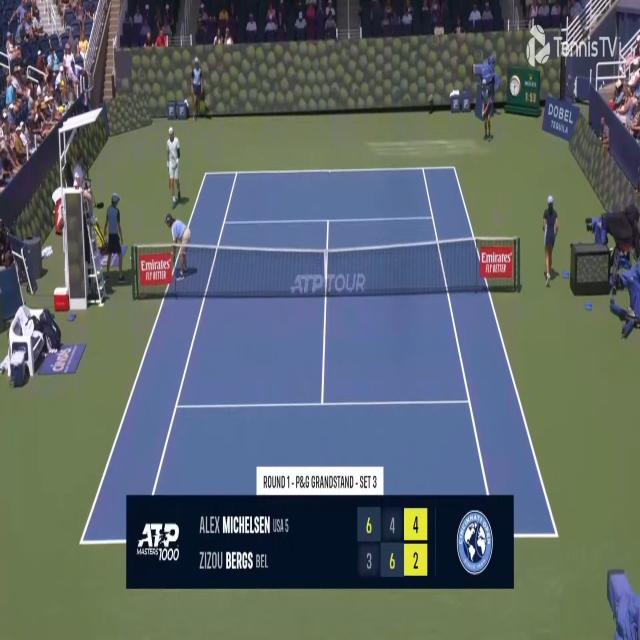tennis-player: (166, 126, 183, 210)
